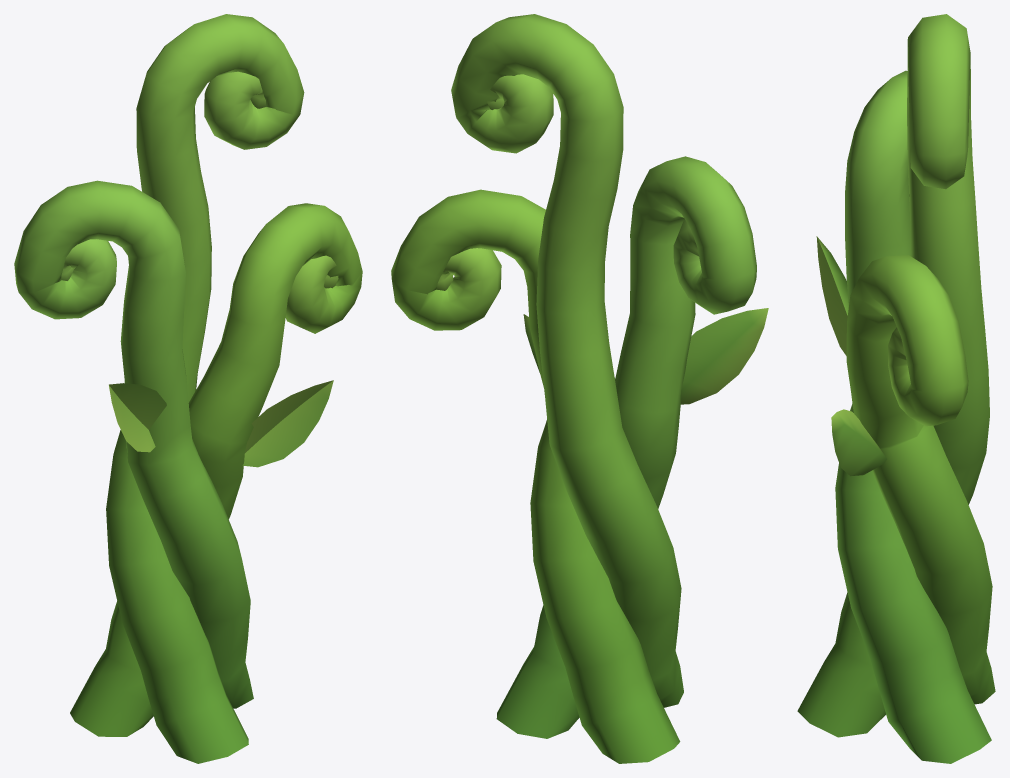
Rendered from Roots_Remake.glb.
3 views of the same model, side by side, from view 1: azimuth 30°, elevation 25°; view 2: azimuth 150°, elevation 25°; view 3: azimuth 270°, elevation 25° (orthographic). The views are drawn at different scales.
Parts seen in each view (by area): view 1: Roots_Remake; view 2: Roots_Remake; view 3: Roots_Remake.
Part boxes in pixels (box(x1,y1,x2,y2)): Roots_Remake: box(14, 14, 362, 763); Roots_Remake: box(391, 14, 768, 763); Roots_Remake: box(797, 14, 995, 763).
Size of the model in its own units: 1.64 by 3.08 by 0.765.
